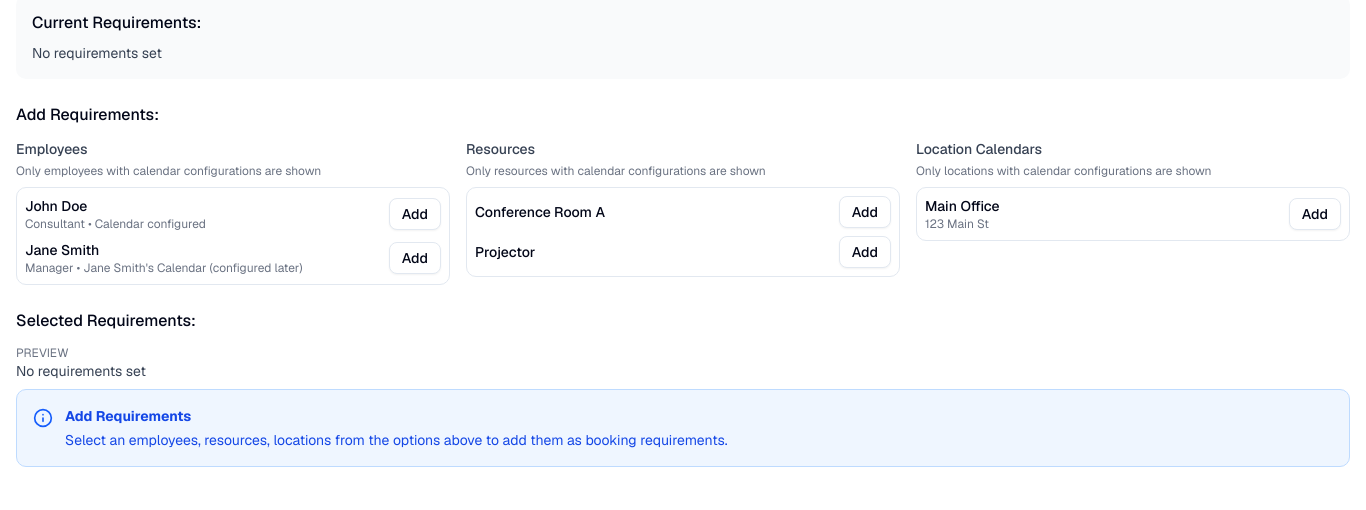
Test: BookingRequirementsBuilder › displays selected requirements with logic operators
// Add two requirements - click first employee and first resource
Click the button "Add" in the row of "• Calendar configured" at (415, 214), box [389, 198, 441, 230]
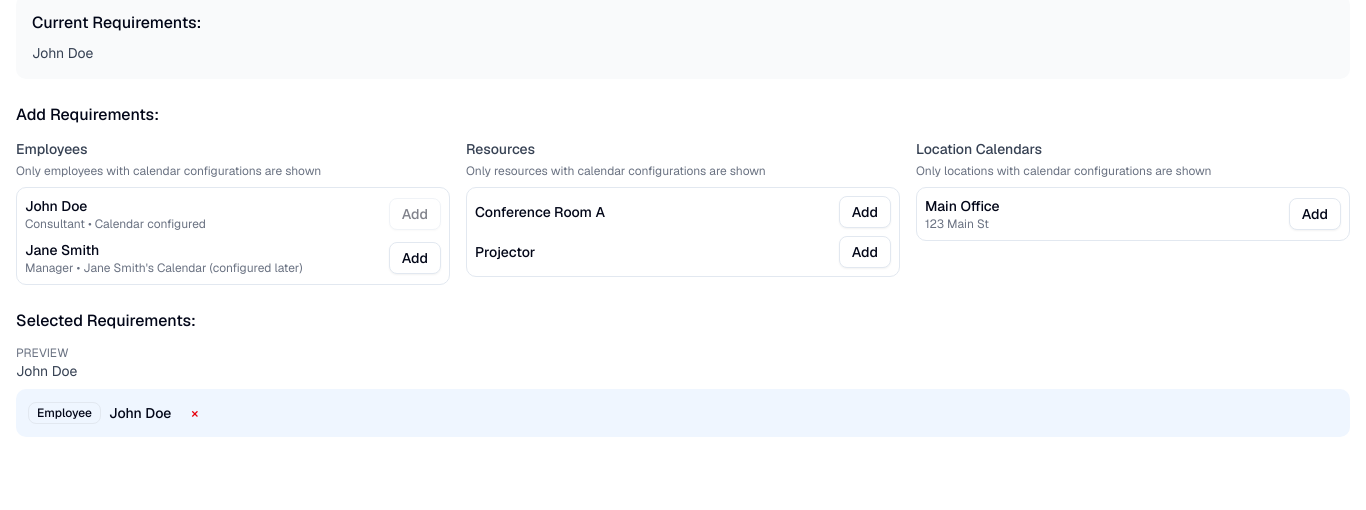
Click the button "Add" in the row of "Conference Room A" at (865, 212), box [839, 196, 891, 228]
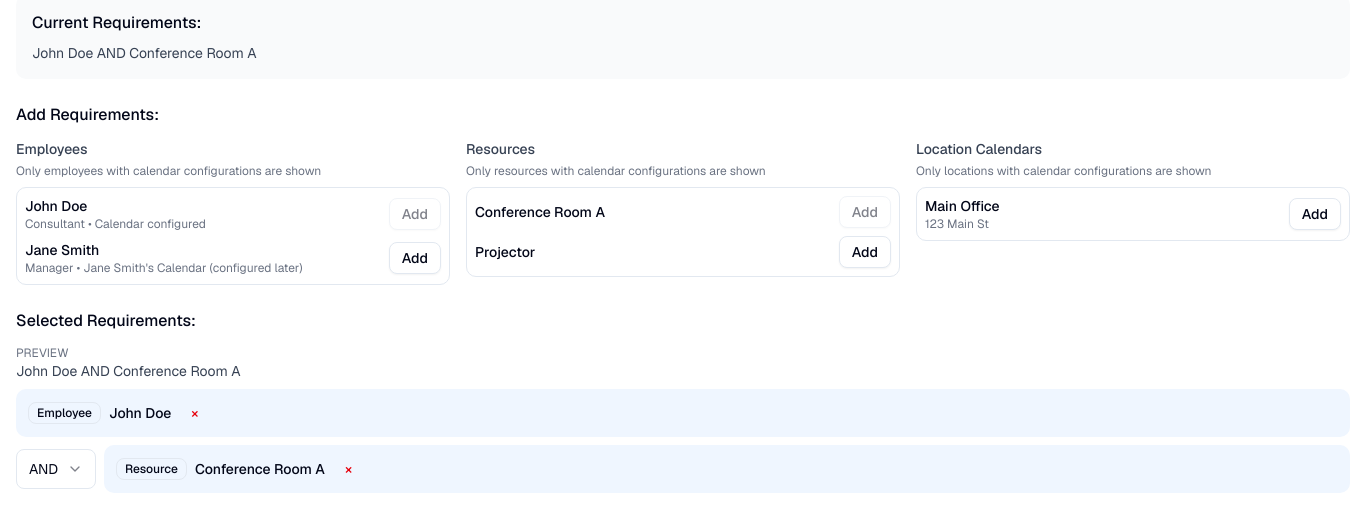
Expected: the heading "Selected Requirements:" is shown, [16, 310, 196, 331]
Expected: the text "John Doe" is shown 2 times, [25, 197, 87, 215]; [109, 403, 171, 423]
Expected: the text "Conference Room A" is shown 2 times, [475, 202, 605, 222]; [195, 459, 325, 479]
